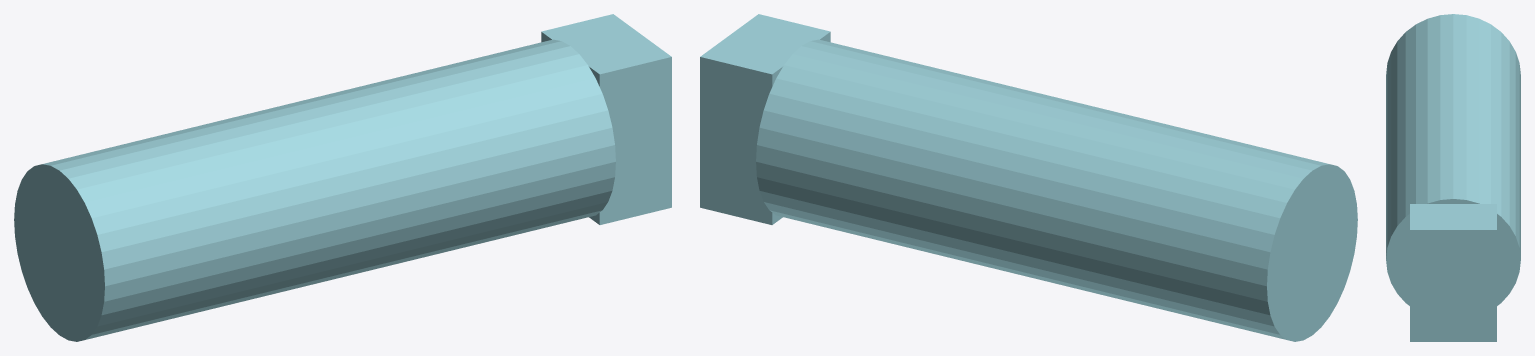
File: cylinder_hammer_v1014.obj
3 renders of one model, left to right at view 1: azimuth 30°, elevation 25°; view 2: azimuth 150°, elevation 25°; view 3: azimuth 270°, elevation 25°, orthographic. The views are drawn at different scales.
Bounding box in the file's own units: 0.215 × 0.0581 × 0.0581.
1 material, 1 textured.
